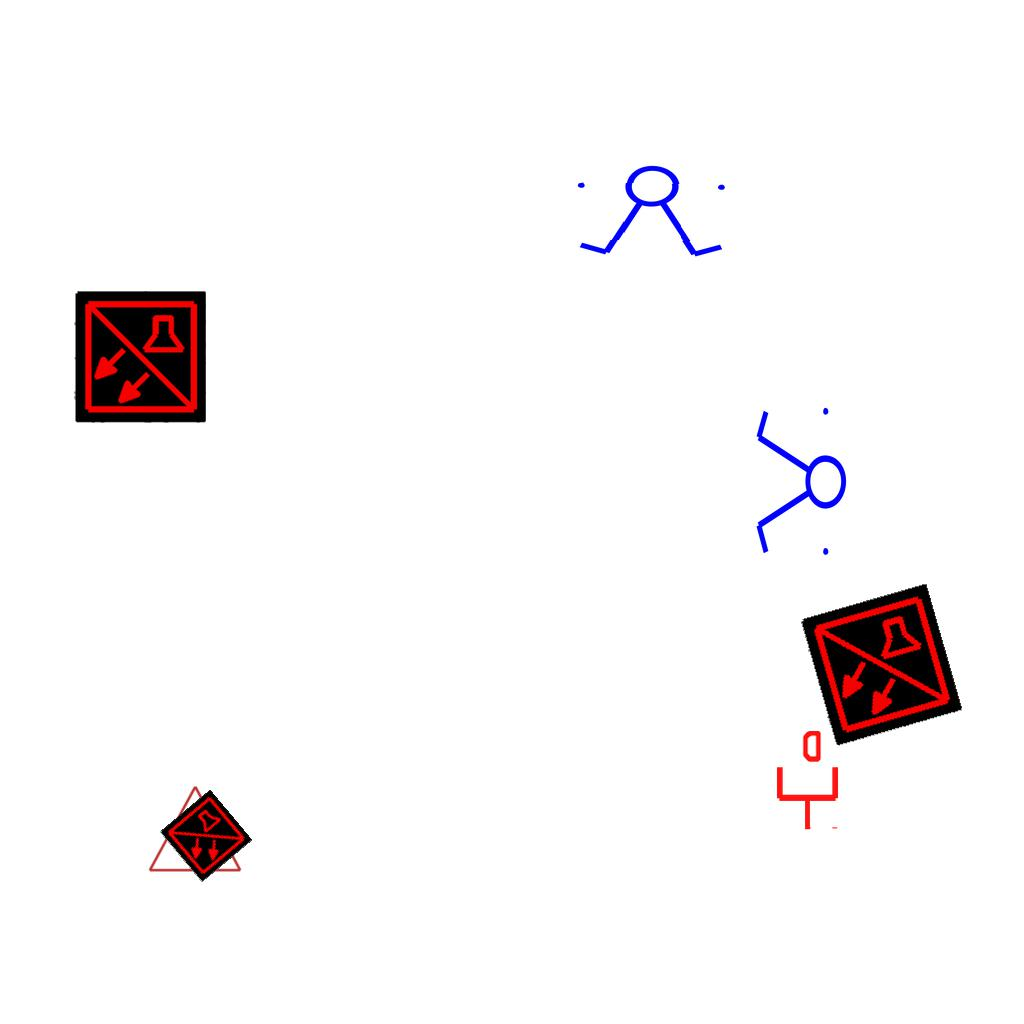Datenanschluss_einfach: (773, 731, 842, 831)
OKW_Multisensormelder_(Kombination_optischer_Rauch-Kahlenmonoxid_Waerme-Melder): (799, 583, 963, 747), (74, 291, 206, 423), (159, 789, 253, 883)
Serienschalter: (568, 162, 738, 262), (752, 399, 848, 567)
Zimmersignalleuchte: (145, 779, 243, 879)
